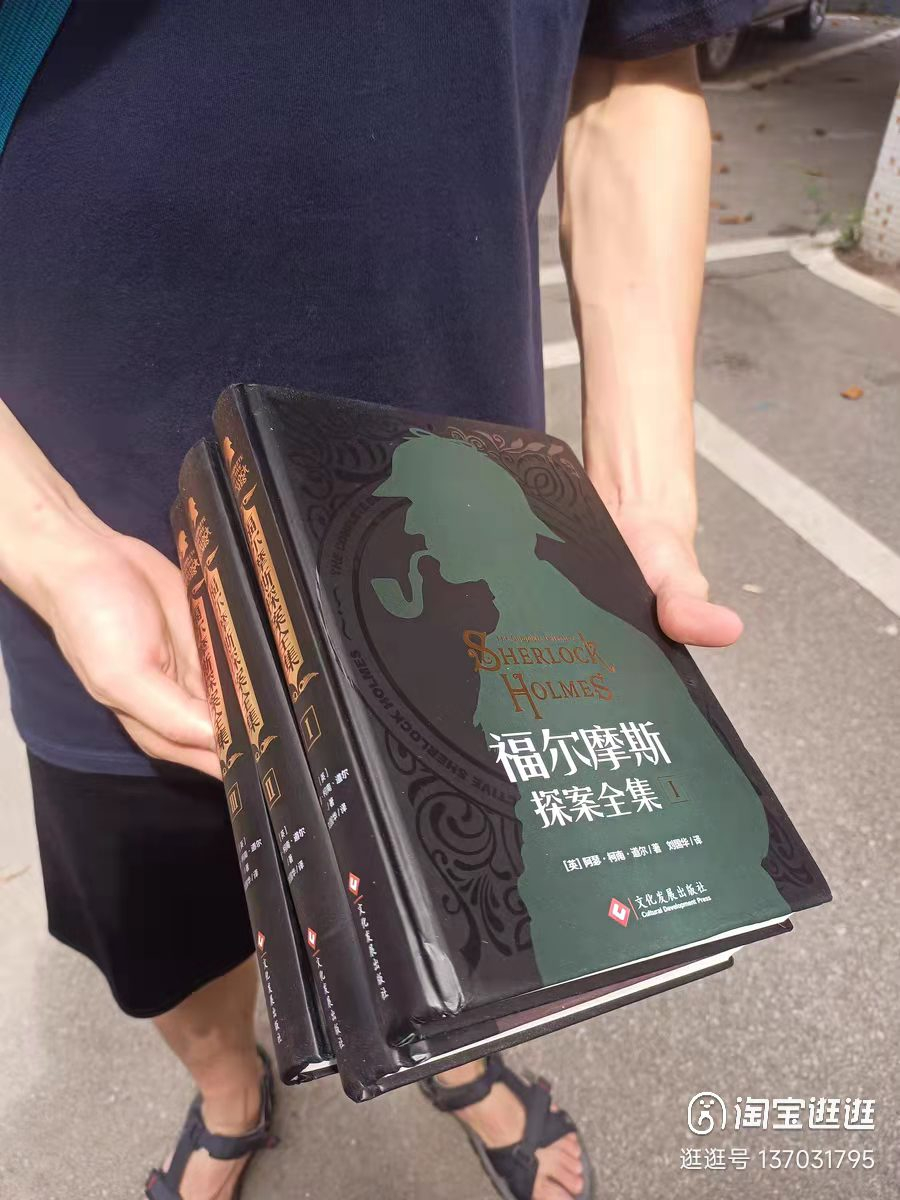book: (214, 371, 843, 1011), (180, 418, 751, 1058)
